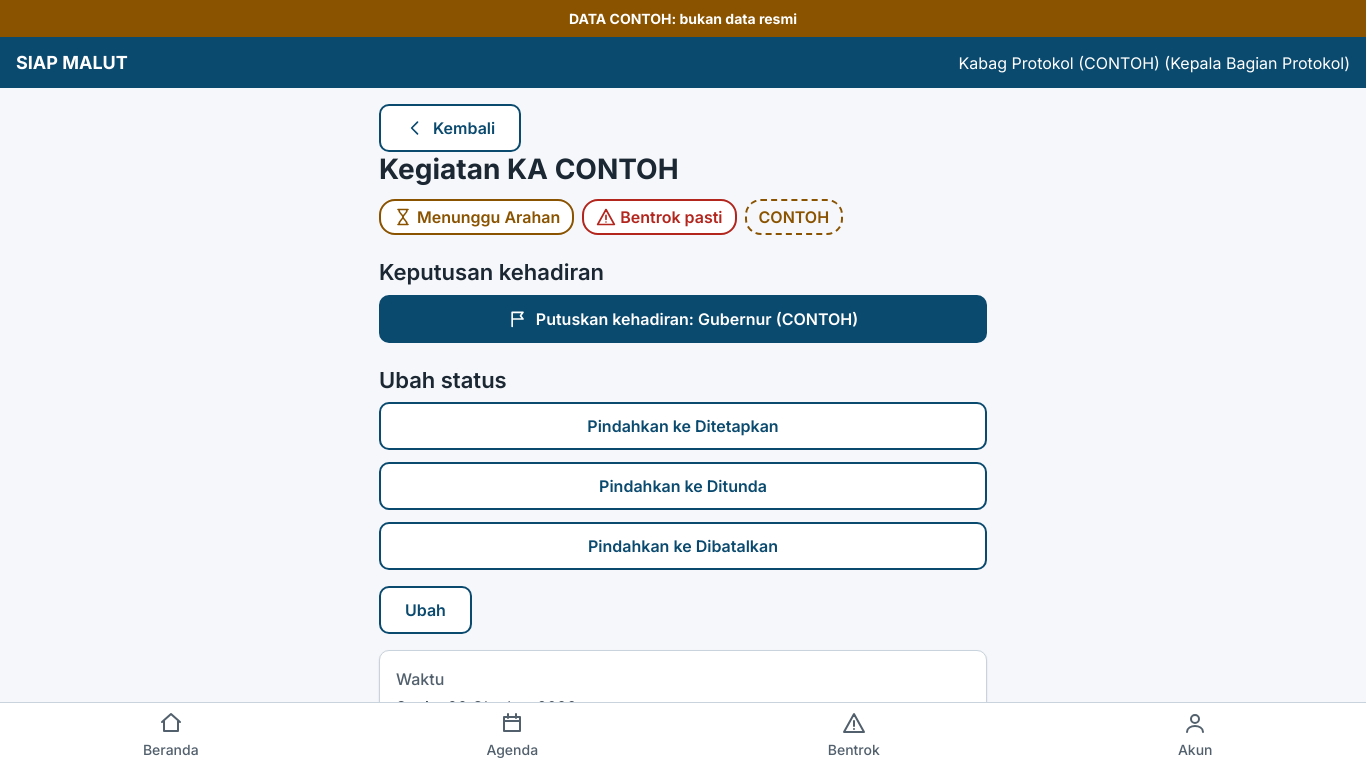
Test: KB-047 dan KB-005: keputusan kehadiran dari ponsel › KB-038 dan KB-047: menetapkan saat ada bentrok pasti mewajibkan alasan bentrok
This screenshot has width=1366, height=768.
Click the button "Putuskan kehadiran: Gubernur (CONTOH)".
click(683, 318)  # box [379,294,987,342]
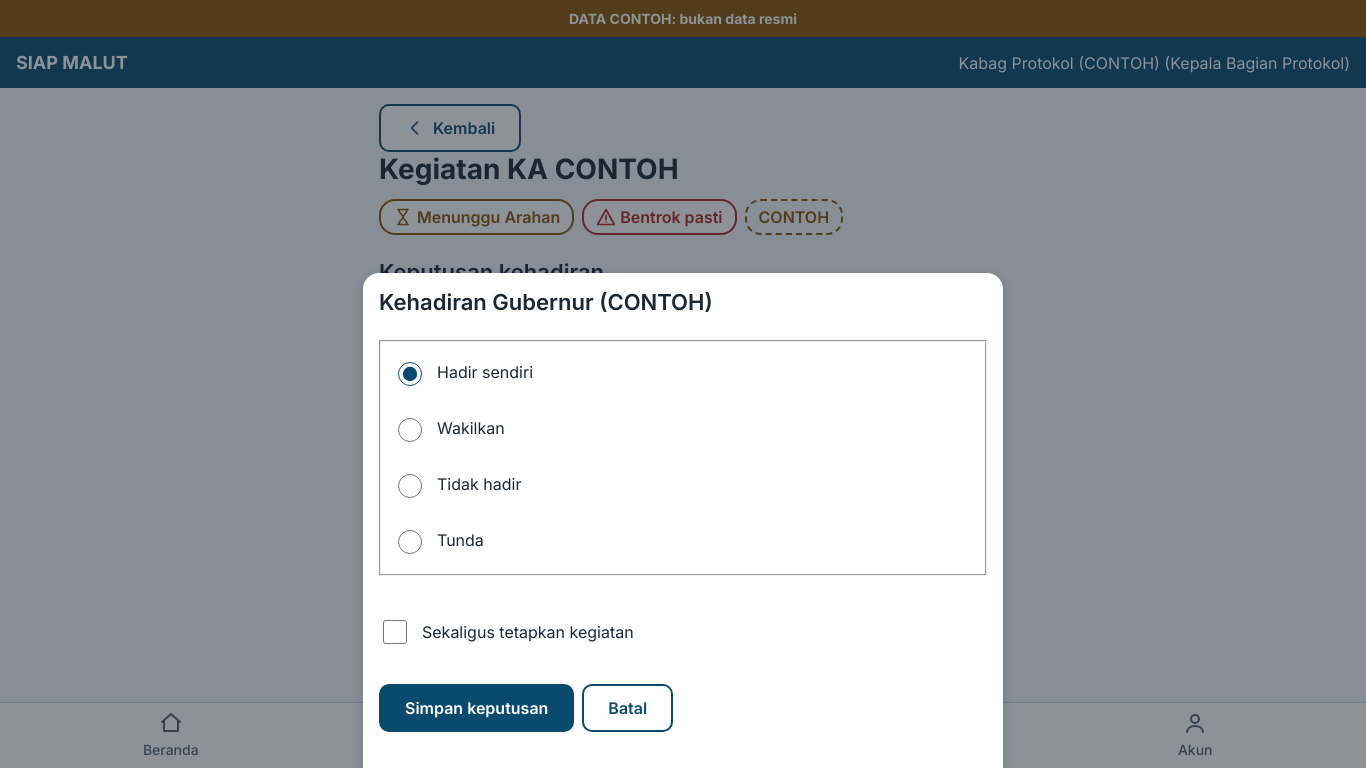
Result: the dialog is shown at [363,273,1003,767]
Click the checkbox labelled "Sekaligus tetapkan kegiatan".
click(395, 632)  # box [383,620,407,644]
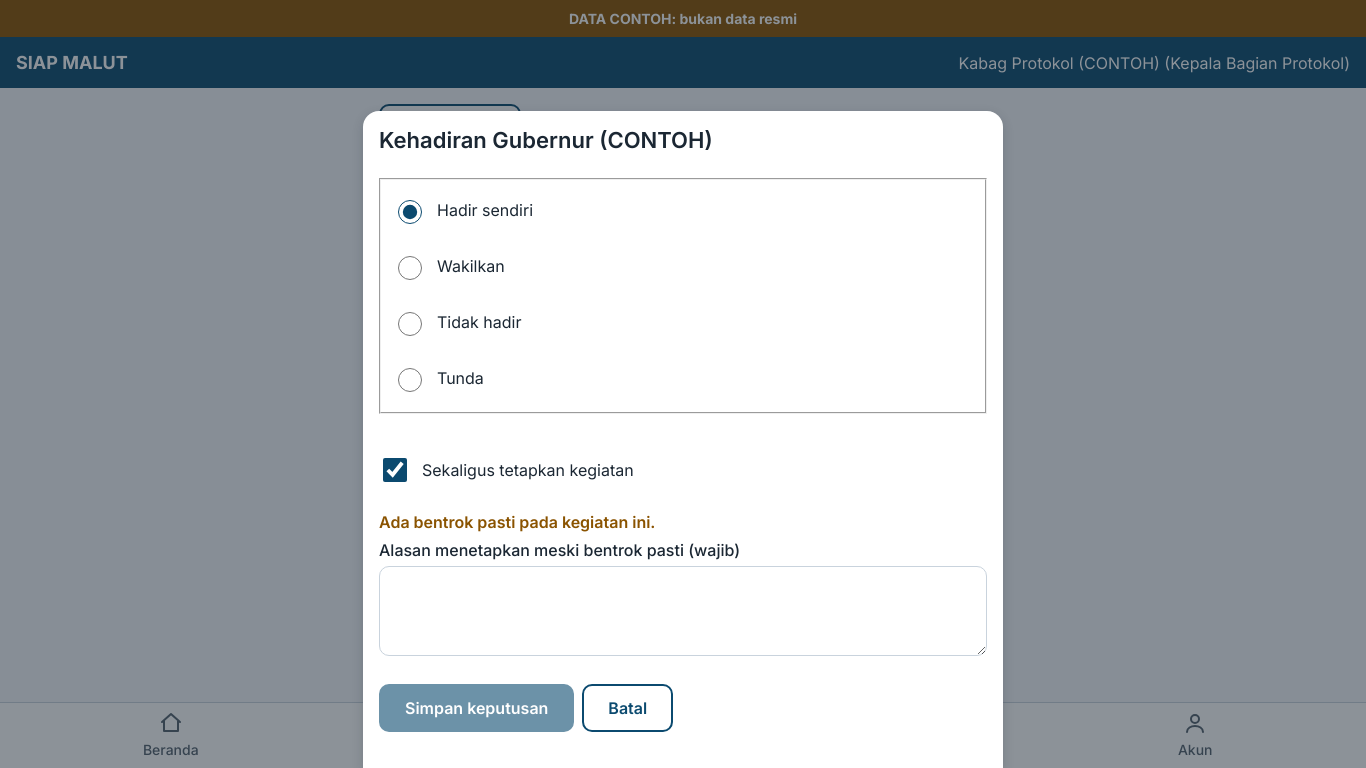
Result: the button "Simpan keputusan" is disabled at [379,684,574,732]
Type "Atas arahan pimpinan" into the text box labelled "Alasan menetapkan meski bentrok pasti (wajib)".
click(683, 611); type("Atas arahan pimpinan")  # box [379,566,987,656]
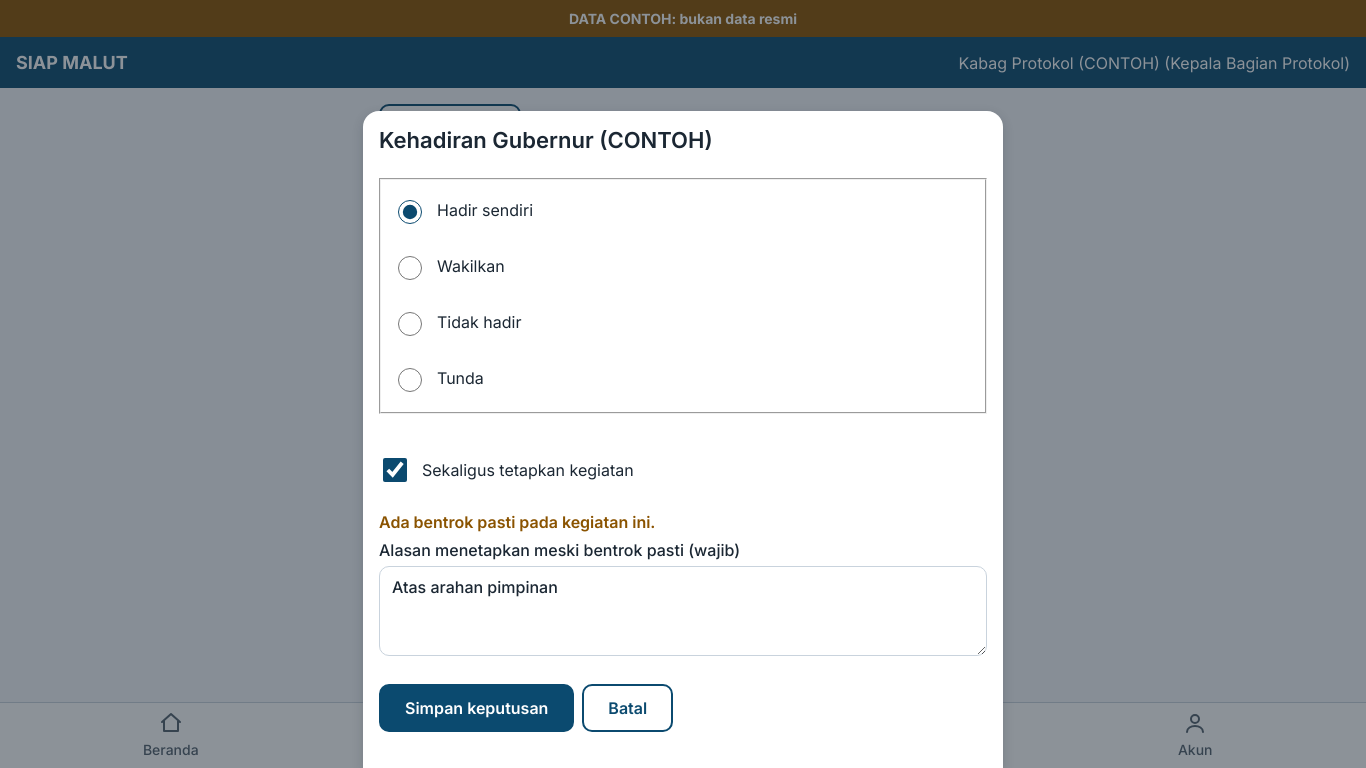
Result: the button "Simpan keputusan" is enabled at [379,684,574,732]
